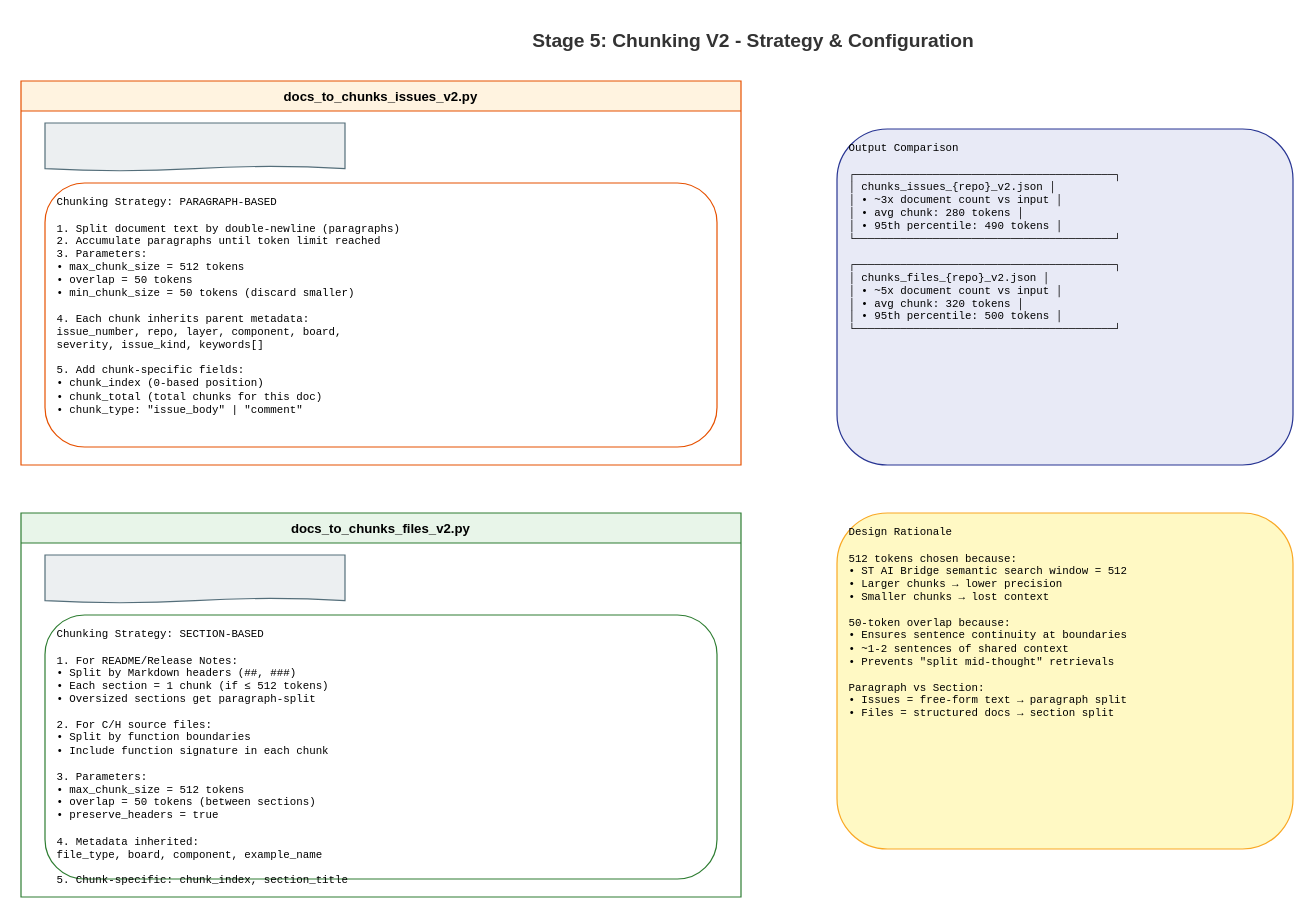
Some shapes in this 1314 by 918 pixel diagram are drawn without their labels. Here are the shapes that lost their labels. From the top down, the centre of each, then its label:
At (x=194, y=146): "Input: docs_issues_{repo}_v2_sim.json".
At (x=194, y=578): "Input: docs_files_{repo}_v2.json".
